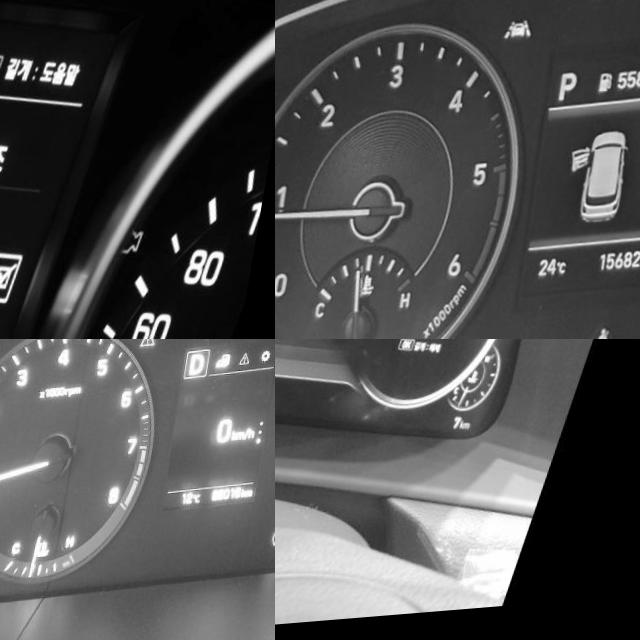LaneCenteringOff: (510, 24, 540, 44)
